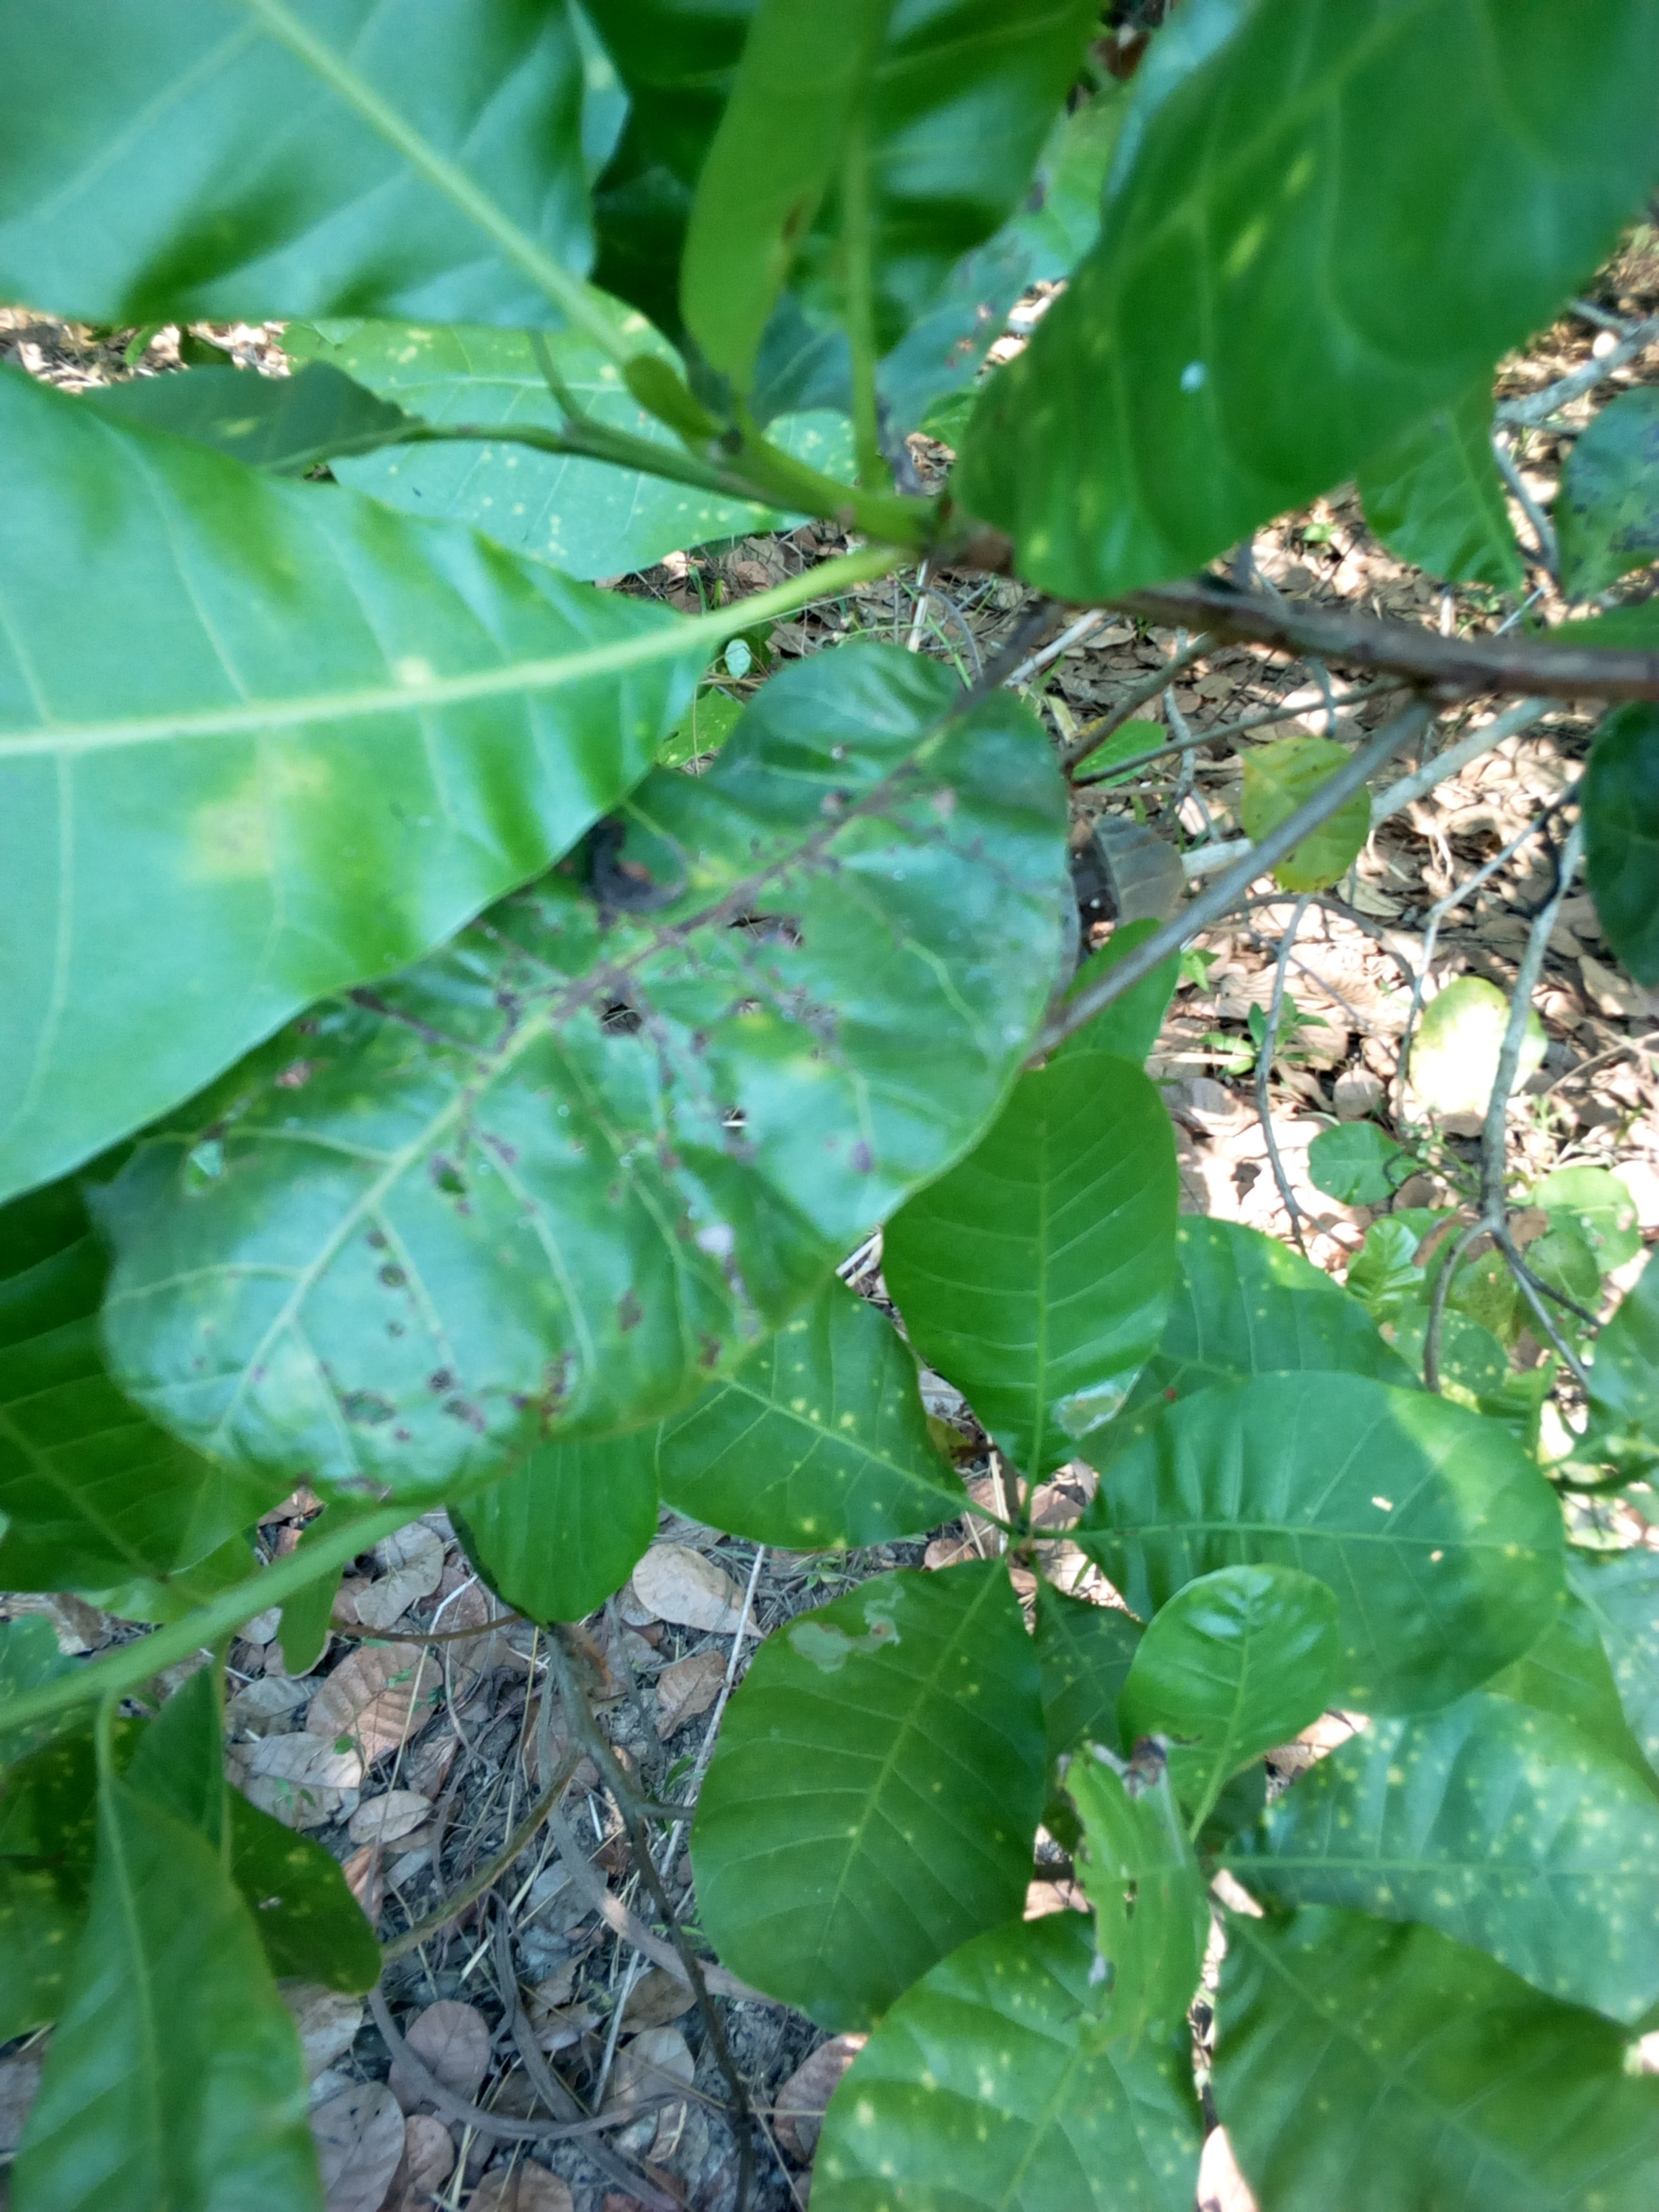Helopeltis anacardii: (101, 641, 1046, 1493)
